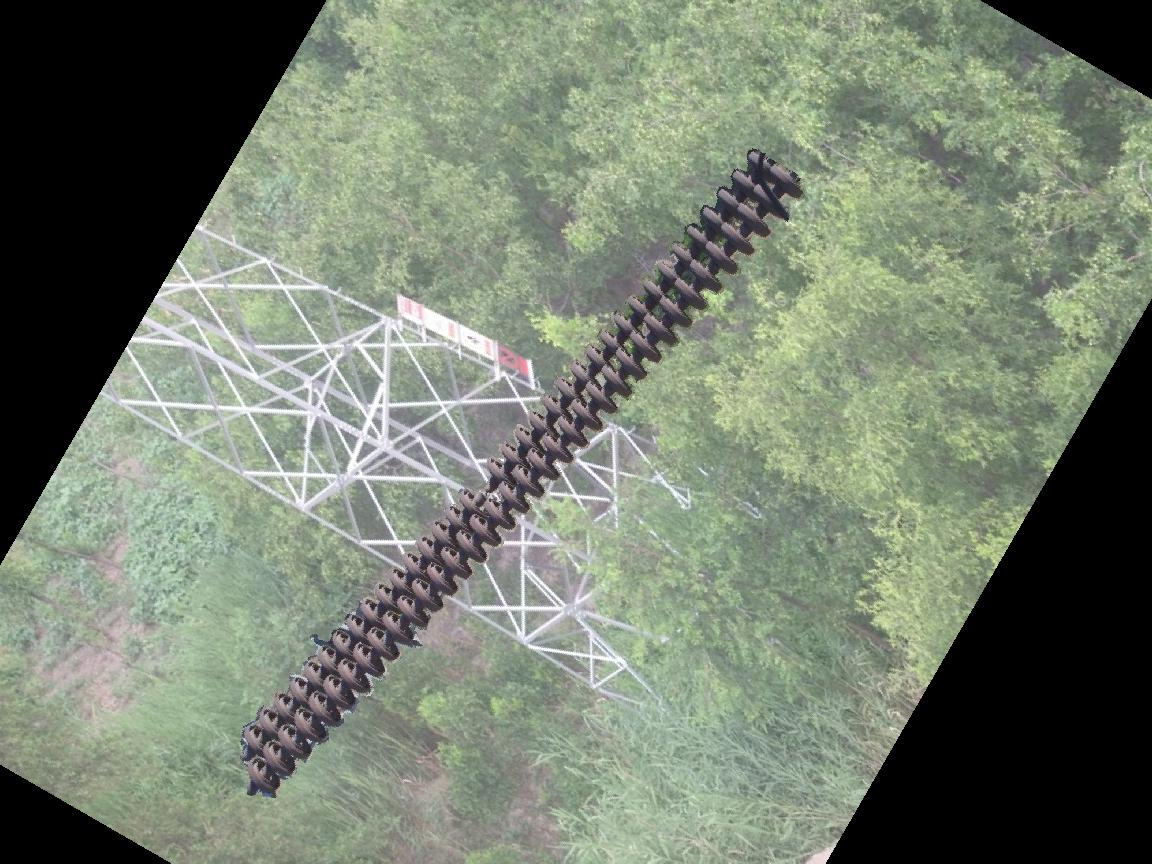insulator: (236, 147, 801, 799)
insulator_stringdrop: (455, 453, 512, 519)
